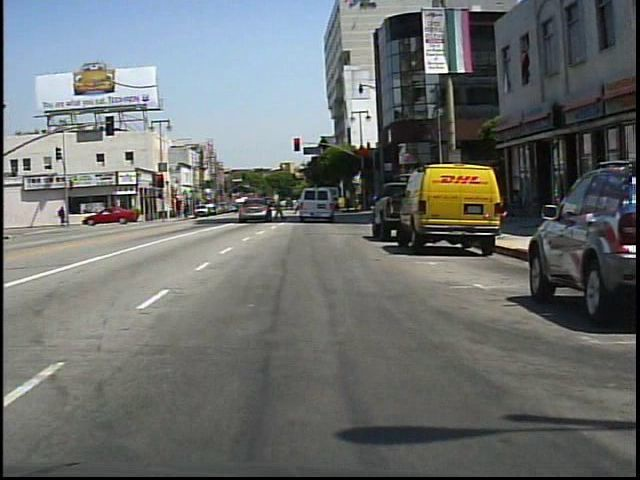person: (505, 183, 530, 224), (271, 192, 289, 223), (290, 196, 303, 218), (58, 206, 66, 226)
